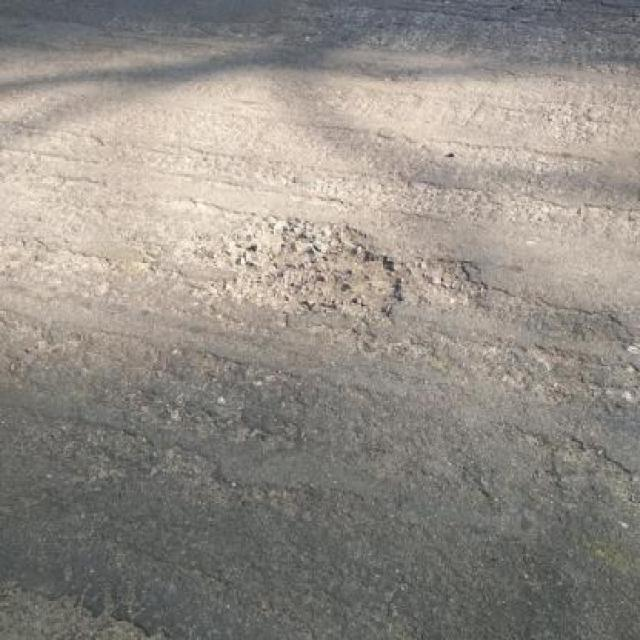Pothole: (226, 222, 405, 316), (404, 254, 484, 310)
